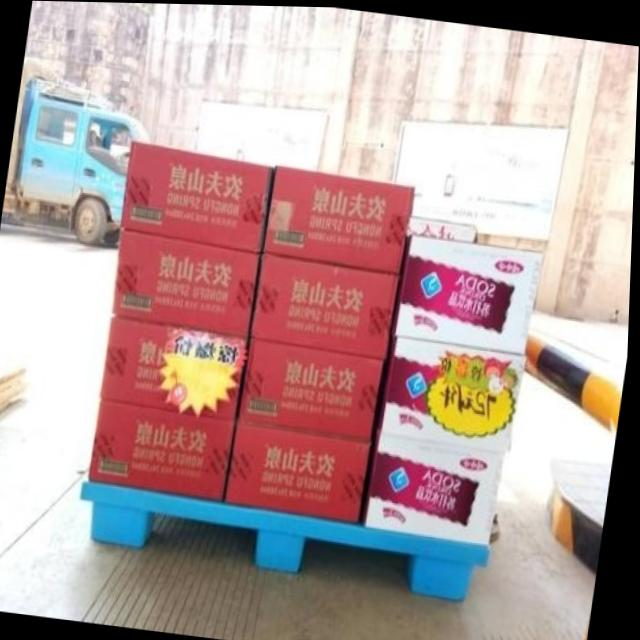box: (396, 232, 545, 355), (380, 336, 529, 451), (365, 425, 509, 541), (124, 142, 277, 250), (264, 163, 415, 271), (253, 250, 401, 360), (114, 228, 262, 336), (102, 314, 251, 420), (91, 399, 240, 500), (228, 418, 372, 520), (242, 339, 386, 440)
